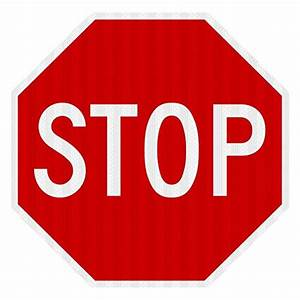stop: (9, 12, 290, 284)
